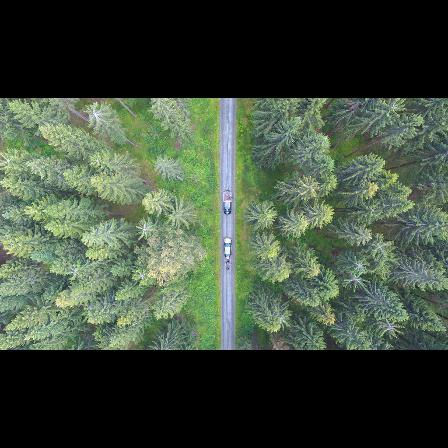Sick: (364, 235, 396, 262), (340, 269, 370, 295), (377, 315, 402, 343), (133, 219, 156, 241), (85, 101, 105, 126), (132, 265, 153, 286), (65, 262, 84, 284), (349, 256, 371, 274)
